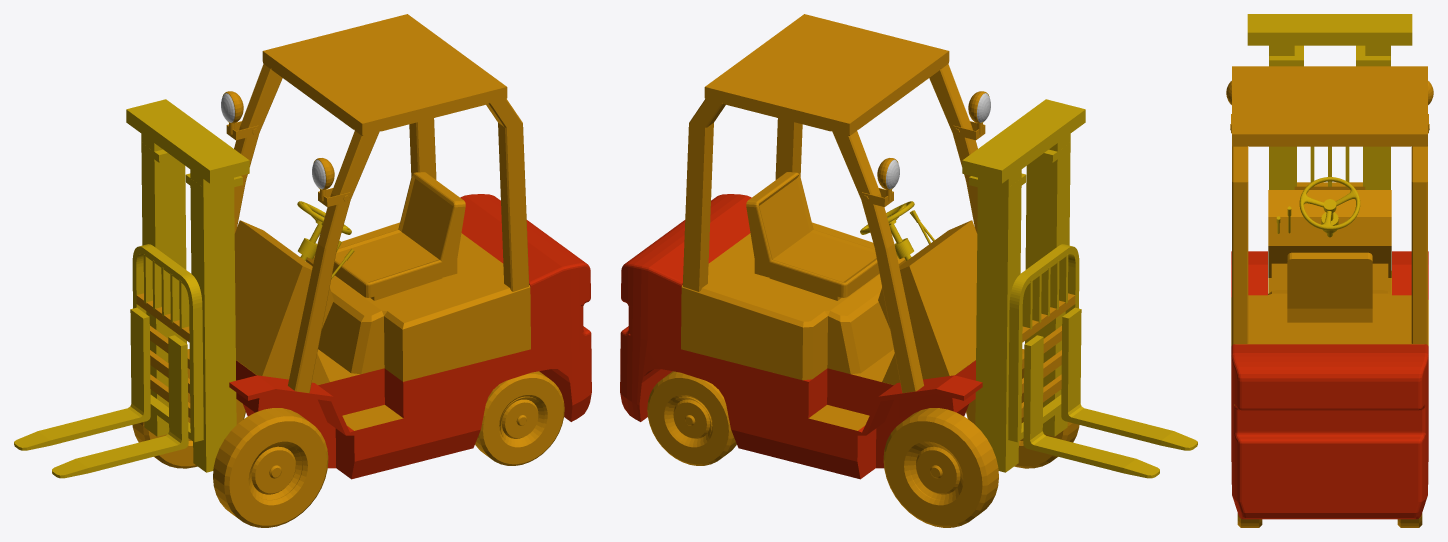
The picture shows the model from 3 angles, left to right: view 1: azimuth 30°, elevation 25°; view 2: azimuth 150°, elevation 25°; view 3: azimuth 270°, elevation 25°; orthographic projection.
Parts seen in each view (by area): view 1: Roof_Roof, Cube_1_Cube_1, Cube.3_Cube.3, Tube_back_shaft_, Cube.12_5_Cube.12_5, Lift_Cube.11, Panel_Panel, Cube.4_Cube.4, Cube.12_Cube.12, Cube.6_Cube.6, Sphere_Sphere; view 2: Roof_Roof, Cube_1_Cube_1, Cube.3_Cube.3, Tube_back_shaft_, Cube.12_5_Cube.12_5, Lift_Cube.11, Panel_Panel, Cube.4_Cube.4, Cube.12_Cube.12, Cube.6_Cube.6, Sphere_Sphere; view 3: Cube_1_Cube_1, Roof_Roof, Panel_Panel, Cube.3_Cube.3, Cube.12_Cube.12, Cube.6_Cube.6, Cube.12_5_Cube.12_5, Cube.4_Cube.4, Tube_drive_Tube_2, Lift_Cube.11, Cube.13_2_Cube.13_2, Tube_back_shaft_.
Boxes of the visible parts, left/top/right/bottom form: Roof_Roof: left=234, top=14, right=529, bottom=392; Cube_1_Cube_1: left=229, top=194, right=591, bottom=479; Cube.3_Cube.3: left=306, top=222, right=530, bottom=381; Tube_back_shaft_: left=132, top=349, right=564, bottom=527; Cube.12_5_Cube.12_5: left=141, top=134, right=236, bottom=472; Lift_Cube.11: left=14, top=244, right=203, bottom=478; Panel_Panel: left=234, top=220, right=333, bottom=384; Cube.4_Cube.4: left=332, top=229, right=457, bottom=297; Cube.12_Cube.12: left=126, top=99, right=249, bottom=183; Cube.6_Cube.6: left=398, top=172, right=465, bottom=269; Sphere_Sphere: left=221, top=91, right=334, bottom=189; Roof_Roof: left=682, top=14, right=977, bottom=392; Cube_1_Cube_1: left=620, top=194, right=982, bottom=479; Cube.3_Cube.3: left=681, top=222, right=905, bottom=380; Tube_back_shaft_: left=647, top=349, right=1079, bottom=527; Cube.12_5_Cube.12_5: left=975, top=134, right=1070, bottom=472; Lift_Cube.11: left=1008, top=244, right=1197, bottom=478; Panel_Panel: left=878, top=220, right=977, bottom=384; Cube.4_Cube.4: left=754, top=229, right=879, bottom=297; Cube.12_Cube.12: left=962, top=99, right=1085, bottom=183; Cube.6_Cube.6: left=746, top=172, right=813, bottom=261; Sphere_Sphere: left=877, top=91, right=990, bottom=189; Cube_1_Cube_1: left=1231, top=251, right=1428, bottom=519; Roof_Roof: left=1232, top=66, right=1427, bottom=344; Panel_Panel: left=1268, top=190, right=1391, bottom=293; Cube.3_Cube.3: left=1231, top=290, right=1428, bottom=405; Cube.12_Cube.12: left=1247, top=14, right=1412, bottom=45; Cube.6_Cube.6: left=1287, top=252, right=1372, bottom=308; Cube.12_5_Cube.12_5: left=1269, top=45, right=1390, bottom=189; Cube.4_Cube.4: left=1287, top=308, right=1372, bottom=322; Tube_drive_Tube_2: left=1299, top=177, right=1360, bottom=230; Lift_Cube.11: left=1294, top=146, right=1365, bottom=189; Cube.13_2_Cube.13_2: left=1269, top=45, right=1390, bottom=66; Tube_back_shaft_: left=1237, top=513, right=1422, bottom=527.
Size of the model in its own units: 2.23 by 1.61 by 0.797.
